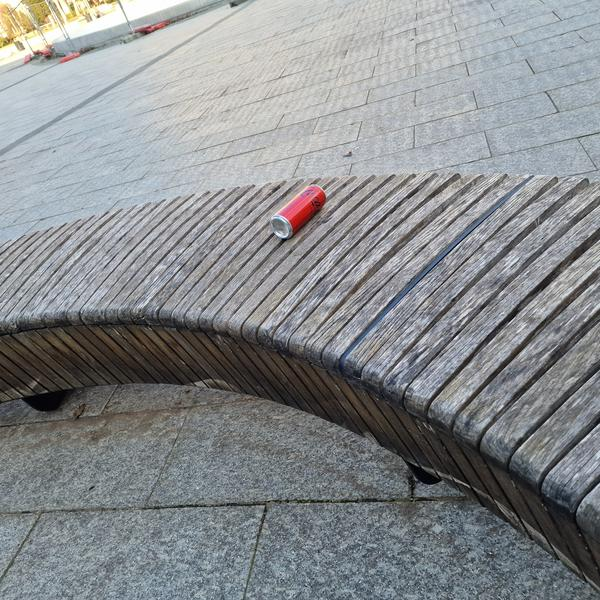can: (265, 178, 332, 244)
